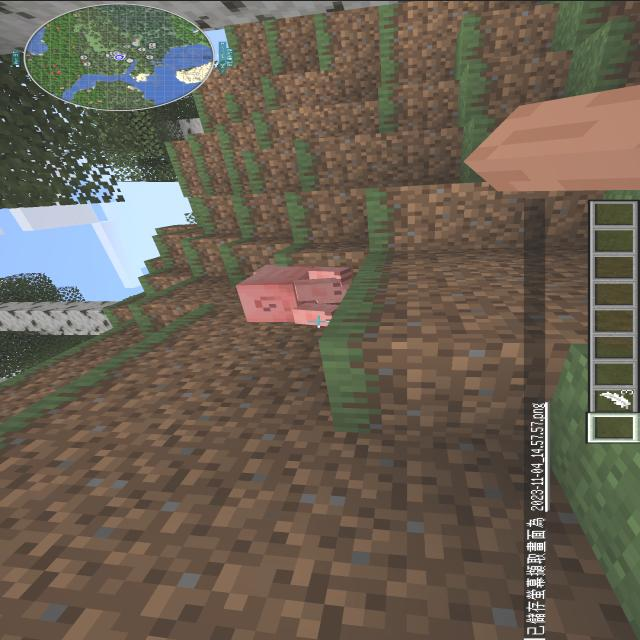pig: (223, 250, 369, 332)
